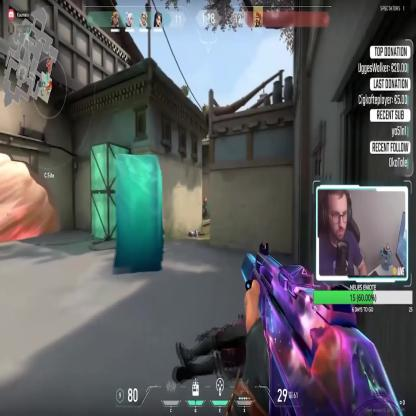enemy: (202, 196, 207, 220)
enemy_head: (203, 196, 206, 200)
